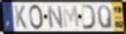D: (81, 4, 98, 30)
K: (14, 5, 28, 30)
M: (62, 5, 81, 30)
N: (46, 5, 65, 30)
O: (29, 4, 45, 31)
Q: (97, 5, 115, 30)
